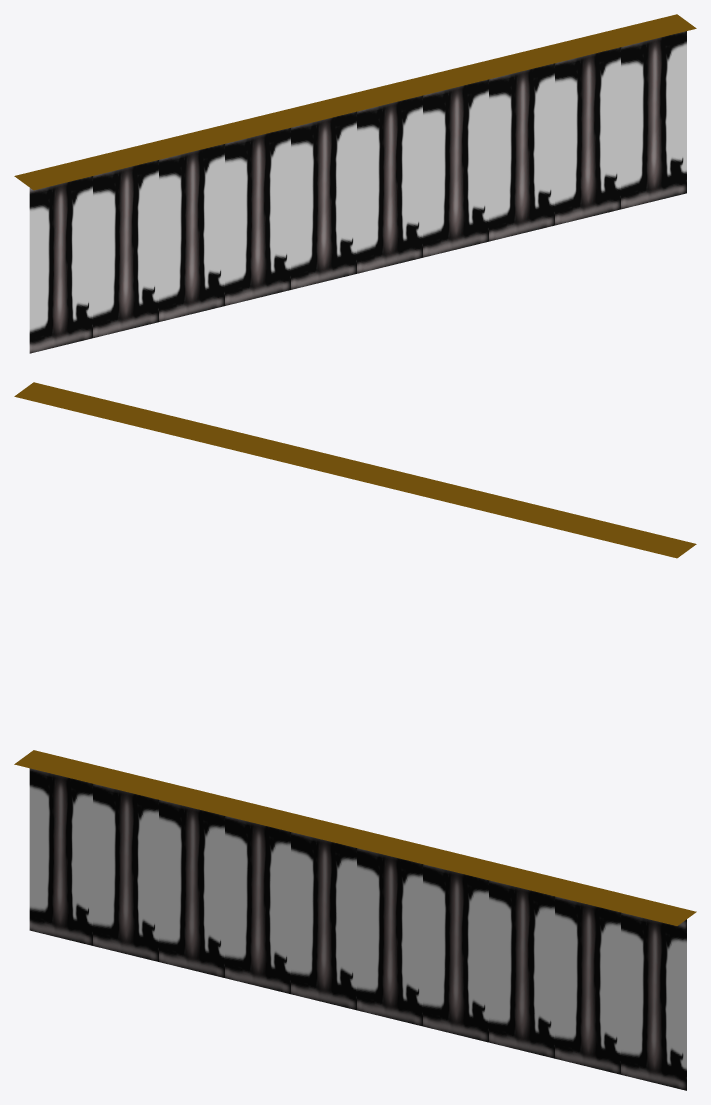
The model's file is Geländer2_Hoch [MetallStäbe]_963.glb.
3 renders of one model, top to bottom at view 1: azimuth 30°, elevation 25°; view 2: azimuth 150°, elevation 25°; view 3: azimuth 330°, elevation 25°, orthographic.
Visible parts, largest first — view 1: pPlaneShape223, pPlaneShape224; view 2: pPlaneShape224; view 3: pPlaneShape223, pPlaneShape224.
Part boxes in pixels (bbox=[...]): pPlaneShape223: bbox=[29, 31, 686, 353]; pPlaneShape224: bbox=[14, 14, 696, 190]; pPlaneShape224: bbox=[14, 382, 696, 558]; pPlaneShape223: bbox=[29, 768, 686, 1090]; pPlaneShape224: bbox=[14, 750, 696, 925].
Size of the model in its own units: 0.4724 by 0.117 by 0.0243.
Materials: 2 (1 with a texture image).
